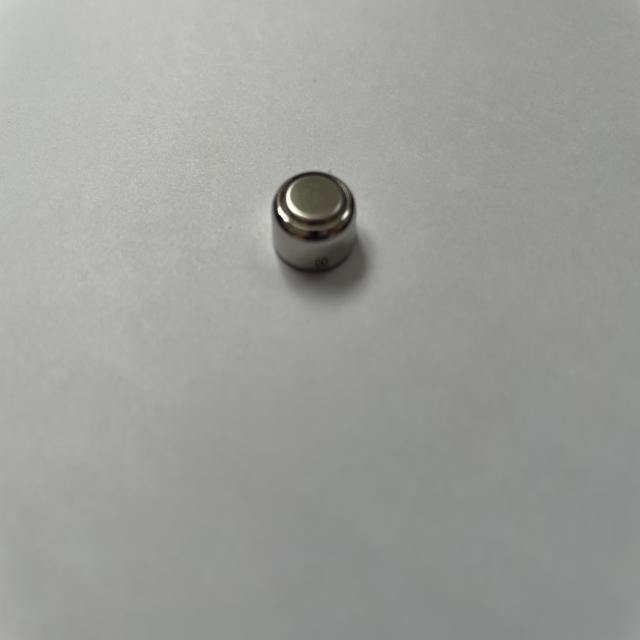COIN: (270, 170, 360, 275)
